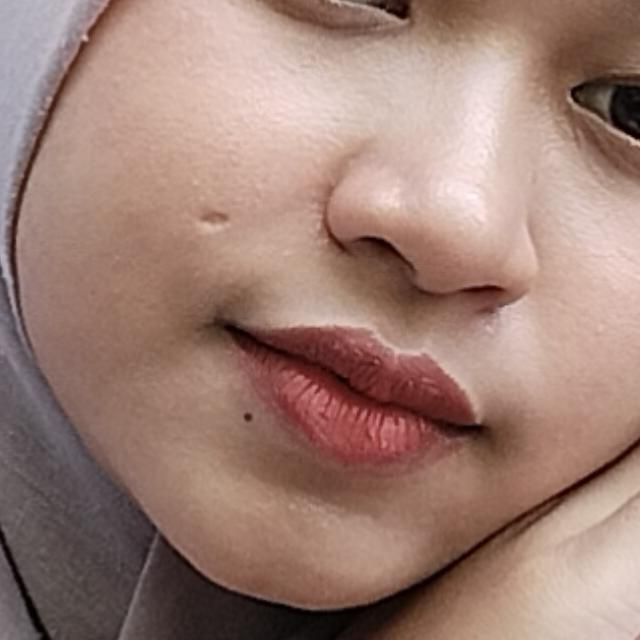tidur: (6, 108, 640, 640)
